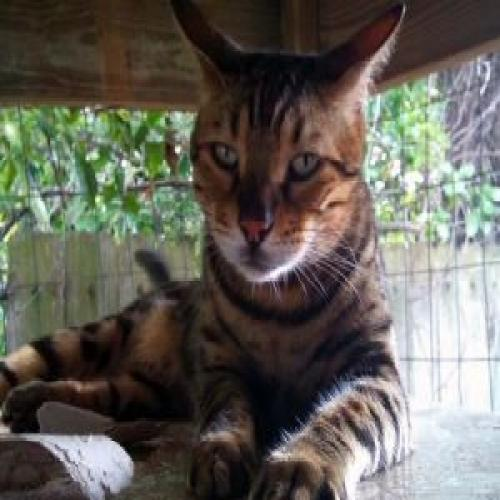bengal: (164, 1, 418, 300)
